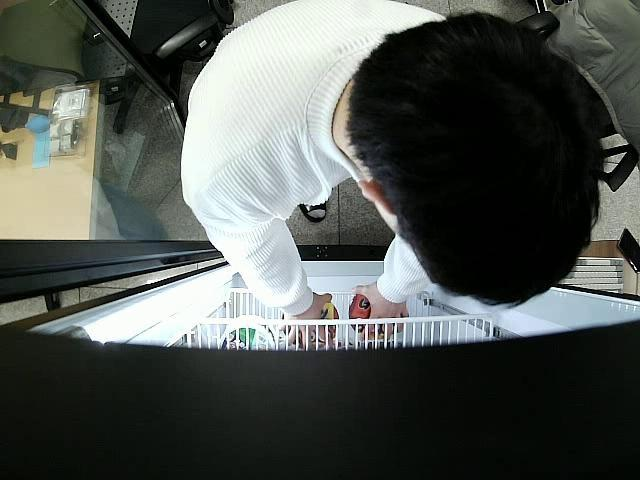05_nuguri_L: (282, 302, 338, 346), (350, 294, 408, 334)
